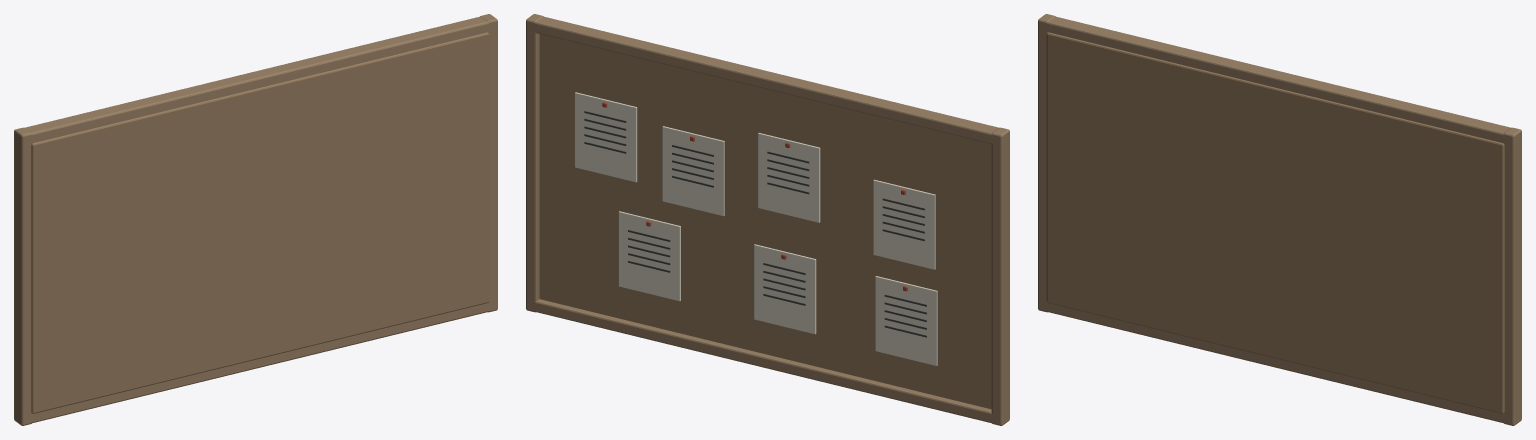
File: NoticeBoard.fbx
3 views of the same model, side by side, from view 1: azimuth 30°, elevation 25°; view 2: azimuth 150°, elevation 25°; view 3: azimuth 330°, elevation 25° (orthographic).
Parts seen in each view (by area): view 1: NoticeBoard_Cork, NoticeBoard_Timber; view 2: NoticeBoard_Cork, NoticeBoard_Paper, NoticeBoard_Timber, NoticeBoard_Ink; view 3: NoticeBoard_Cork, NoticeBoard_Timber.
Part boxes in pixels (x1,y1,x2,y2): NoticeBoard_Cork: (31, 32, 489, 413); NoticeBoard_Timber: (14, 14, 497, 425); NoticeBoard_Cork: (539, 34, 991, 409); NoticeBoard_Paper: (575, 92, 937, 365); NoticeBoard_Timber: (526, 14, 1009, 425); NoticeBoard_Ink: (584, 111, 926, 337); NoticeBoard_Cork: (1046, 32, 1504, 413); NoticeBoard_Timber: (1038, 14, 1521, 425).
Bounding box in the file's own units: 239 × 140 × 8.55.
